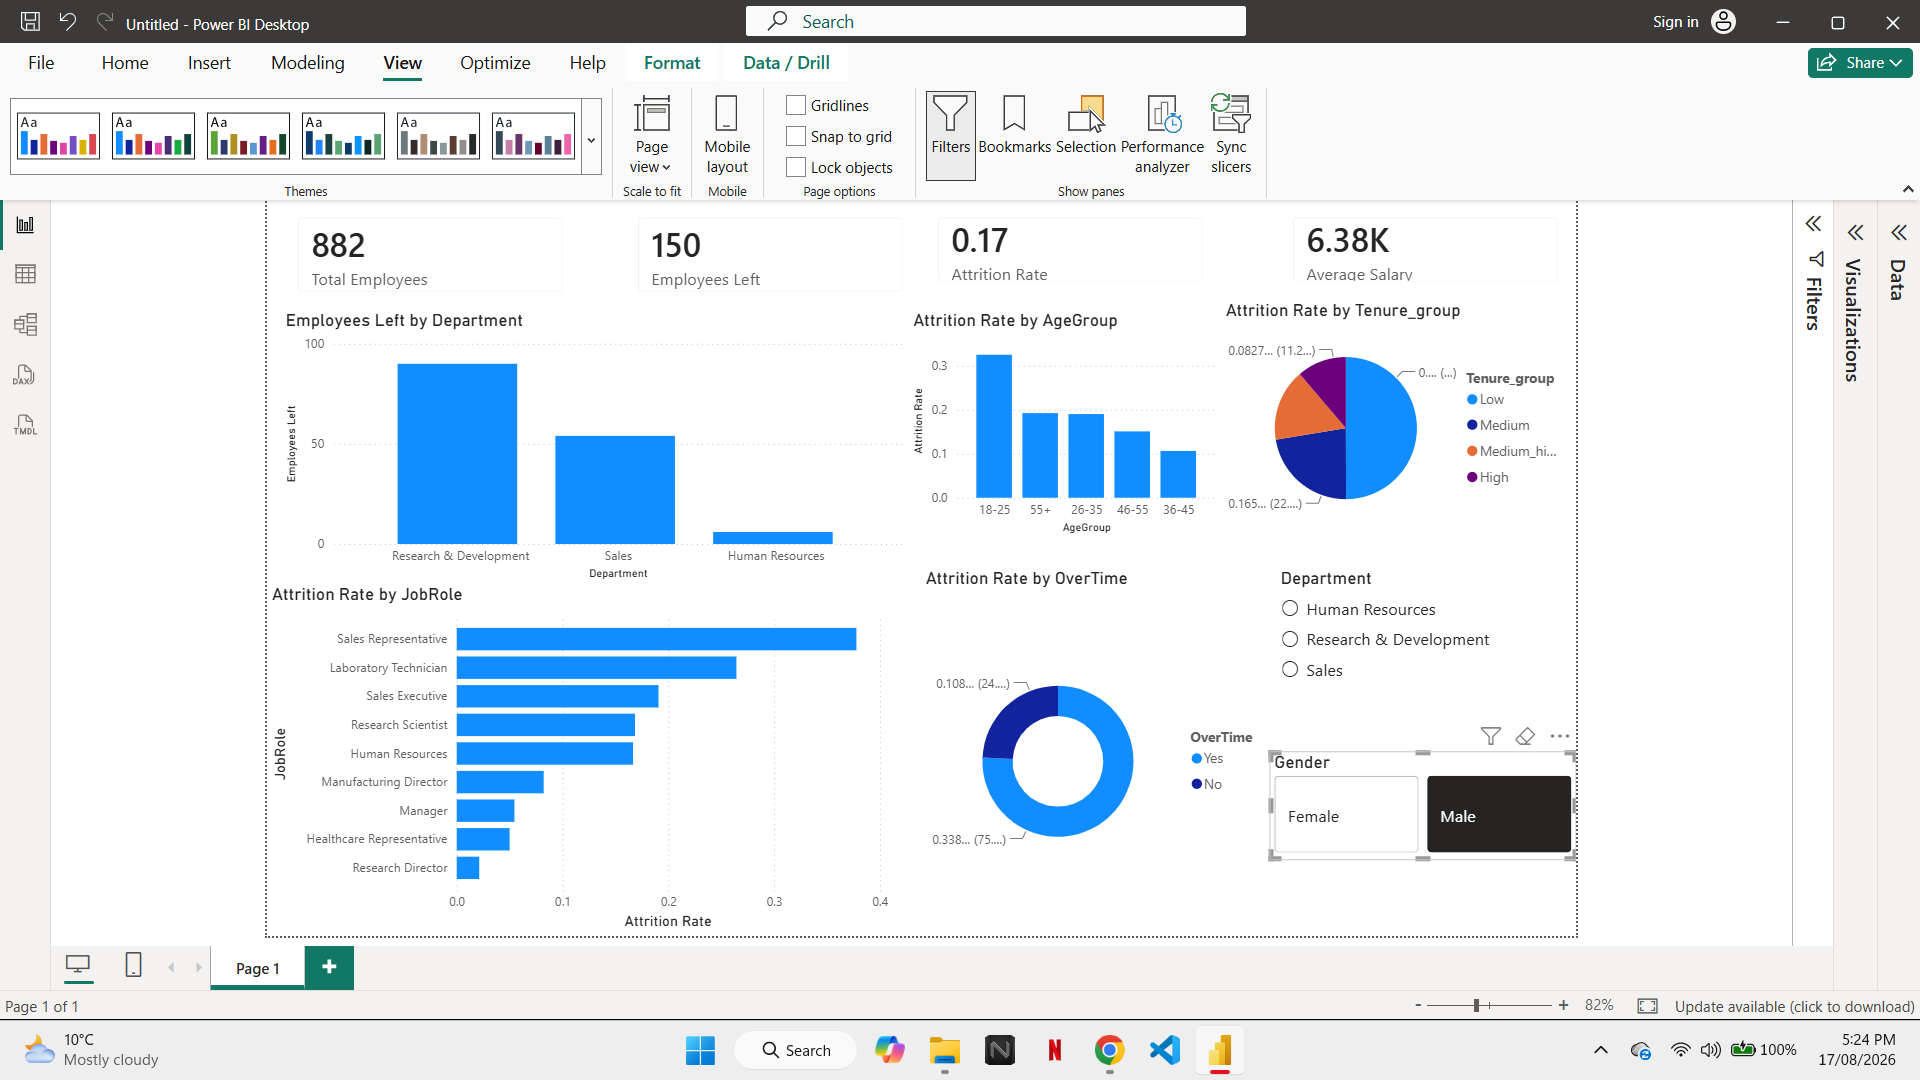

What the dashboard file says about the page in this screenshot:
{"tool":"powerbi","page":{"name":"Page 1","canvas":[1280,720],"ordinal":0},"visuals":[{"type":"cardVisual","fields":{"Data":["HR_Employee.Total Employees"]},"box":[13.7,0,293.7,107],"z":3},{"type":"cardVisual","fields":{"Data":["HR_Employee.Employees Left"]},"box":[345.8,0,293.7,107],"z":4},{"type":"cardVisual","fields":{"Data":["HR_Employee.Attrition Rate"]},"box":[639.5,0,293.7,97.4],"z":5},{"type":"cardVisual","fields":{"Data":["HR_Employee.Average Salary"]},"box":[986.6,0,293.7,97.4],"z":6},{"type":"clusteredColumnChart","fields":{"Category":["HR_Employee.Department"],"Y":["HR_Employee.Employees Left"]},"box":[13.7,107,613.4,269],"z":7},{"type":"barChart","fields":{"Category":["HR_Employee.JobRole"],"Y":["HR_Employee.Attrition Rate"]},"box":[0,375.8,612.8,343.6],"z":8},{"type":"donutChart","fields":{"Category":["HR_Employee.OverTime"],"Y":["HR_Employee.Attrition Rate"]},"box":[639.4,359,347.8,360.4],"z":9},{"type":"columnChart","fields":{"Category":["HR_Employee.AgeGroup"],"Y":["HR_Employee.Attrition Rate"]},"box":[627.1,107,306,223.7],"z":10},{"type":"pieChart","fields":{"Category":["HR_Employee.Tenure_group"],"Y":["HR_Employee.Attrition Rate"]},"box":[933.1,97.4,347.2,231.9],"z":11},{"type":"listSlicer","fields":{"Values":["HR_Employee.Department"]},"box":[987.2,359,293.1,140.2],"z":12},{"type":"advancedSlicerVisual","fields":{"Values":["HR_Employee.Gender"]},"box":[980.2,539.9,300.1,105.2],"z":14}]}

Visuals, with their boxes on the page's 1280x720 design canvas (x1, y1, x2, y2). These are canvas units, not pixel positions in the 1920x1080 screenshot, which may show the page scaled, cropped or inside an application window:
cardVisual - HR_Employee.Total Employees: bbox(14, 0, 307, 107)
cardVisual - HR_Employee.Employees Left: bbox(346, 0, 640, 107)
cardVisual - HR_Employee.Attrition Rate: bbox(640, 0, 933, 97)
cardVisual - HR_Employee.Average Salary: bbox(987, 0, 1280, 97)
clusteredColumnChart - HR_Employee.Department x HR_Employee.Employees Left: bbox(14, 107, 627, 376)
barChart - HR_Employee.JobRole x HR_Employee.Attrition Rate: bbox(0, 376, 613, 719)
donutChart - HR_Employee.OverTime x HR_Employee.Attrition Rate: bbox(639, 359, 987, 719)
columnChart - HR_Employee.AgeGroup x HR_Employee.Attrition Rate: bbox(627, 107, 933, 331)
pieChart - HR_Employee.Tenure_group x HR_Employee.Attrition Rate: bbox(933, 97, 1280, 329)
listSlicer - HR_Employee.Department: bbox(987, 359, 1280, 499)
advancedSlicerVisual - HR_Employee.Gender: bbox(980, 540, 1280, 645)
